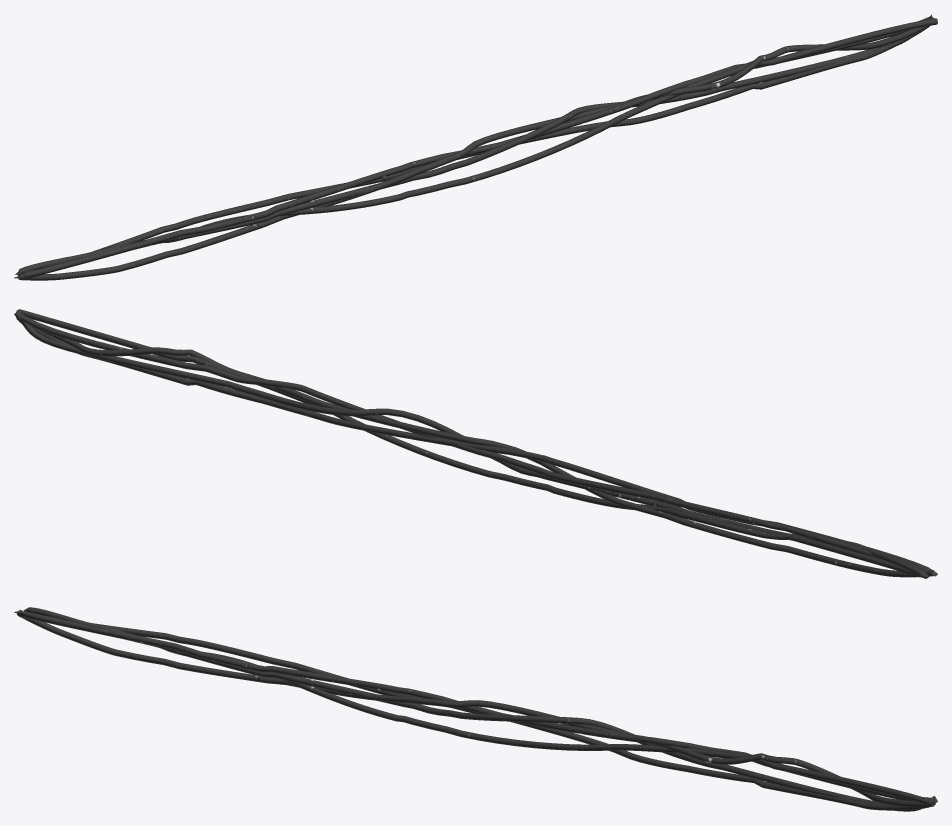
File: WIRE2.fbx
The picture shows the model from 3 angles, top to bottom: view 1: azimuth 30°, elevation 25°; view 2: azimuth 150°, elevation 25°; view 3: azimuth 330°, elevation 25°; orthographic projection.
Parts seen in each view (by area): view 1: Wire.002; view 2: Wire.002; view 3: Wire.002.
Part boxes in pixels (bbox=[...]): Wire.002: bbox=[14, 14, 937, 280]; Wire.002: bbox=[14, 309, 937, 578]; Wire.002: bbox=[14, 607, 937, 811].
Size of the model in its own units: 3293 by 198 by 98.7.
1 material, 1 textured.
